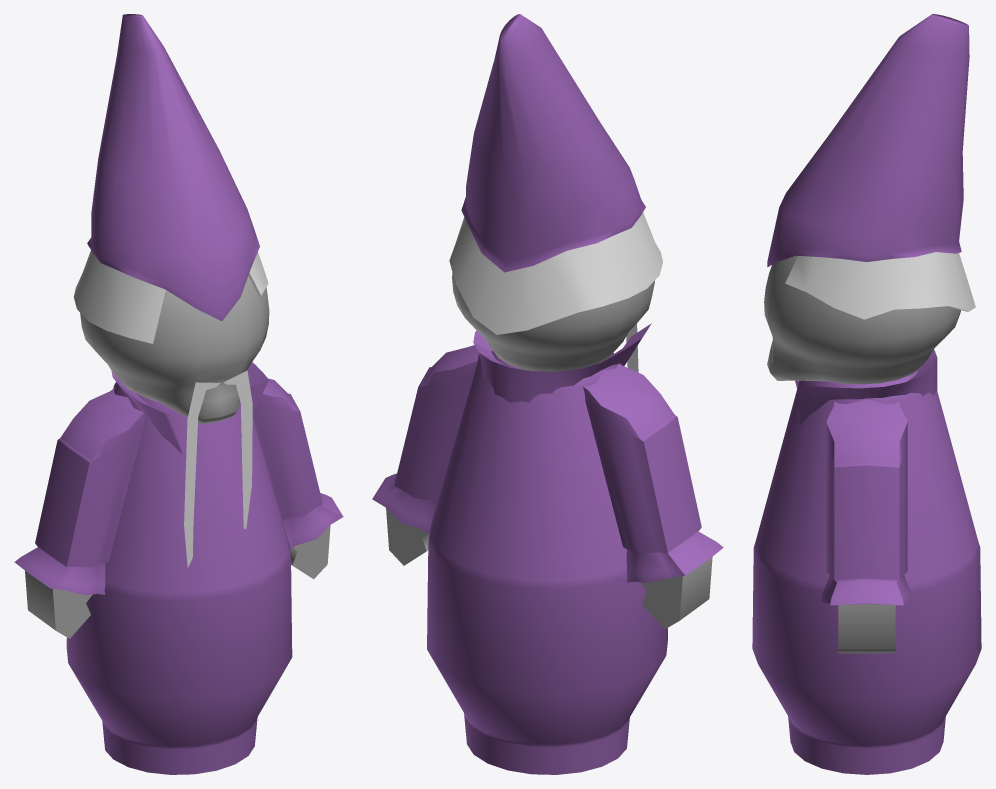
File: Diviner.fbx
The picture shows the model from 3 angles, left to right: view 1: azimuth 30°, elevation 25°; view 2: azimuth 150°, elevation 25°; view 3: azimuth 270°, elevation 25°; orthographic projection. The views are drawn at different scales.
Visible parts, largest first — view 1: Torso1, Hat, RightArm1, Head1, LeftArm1, Hair, Mustache, RightHand1, Collar, LeftHand1; view 2: Torso1, Hat, RightArm1, Hair, LeftArm1, Head1, Collar, RightHand1, LeftHand1; view 3: Torso1, Hat, LeftArm1, Head1, Hair, LeftHand1, Collar.
Part boxes in pixels (box(x1,y1,x2,y2)): Torso1: box(66, 382, 292, 774); Hat: box(87, 14, 259, 321); RightArm1: box(14, 388, 145, 595); Head1: box(80, 276, 269, 424); LeftArm1: box(252, 378, 343, 548); Hair: box(73, 250, 268, 343); Mustache: box(184, 370, 252, 567); RightHand1: box(25, 564, 104, 638); Collar: box(111, 362, 268, 454); LeftHand1: box(290, 525, 330, 579); Torso1: box(427, 351, 667, 774); Hat: box(461, 14, 645, 272); RightArm1: box(583, 363, 723, 582); Hair: box(449, 212, 662, 334); LeftArm1: box(372, 345, 478, 533); Head1: box(452, 272, 654, 371); Collar: box(473, 323, 651, 402); RightHand1: box(627, 550, 712, 629); LeftHand1: box(386, 508, 429, 565); Torso1: box(752, 370, 981, 774); Hat: box(767, 14, 969, 267); LeftArm1: box(821, 399, 912, 605); Head1: box(764, 255, 960, 384); Hair: box(785, 252, 975, 319); LeftHand1: box(838, 603, 895, 653); Collar: box(795, 349, 937, 424).
Bounding box in the file's own units: 3.69 × 8.16 × 2.34.
